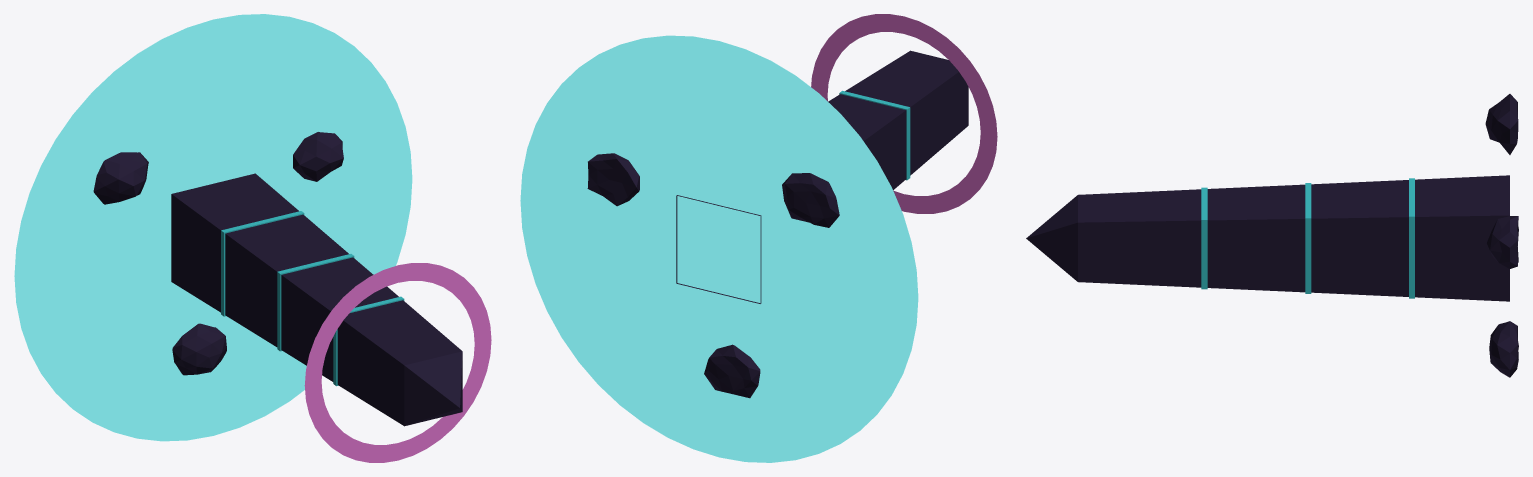
The model's file is obelisque.glb.
3 views of the same model, side by side, from view 1: azimuth 30°, elevation 25°; view 2: azimuth 150°, elevation 25°; view 3: azimuth 270°, elevation 25° (orthographic). The views are drawn at different scales.
Parts seen in each view (by area): view 1: lueur, monolithe, anneau, eclat1, eclat2, eclat0, strie, strie.001, strie.002; view 2: lueur, monolithe, anneau, eclat1, eclat2, eclat0, strie.002; view 3: monolithe, eclat1, eclat2, eclat0, strie.001, strie, strie.002.
Boxes of the visible parts, x1=… form: lueur: x1=14, y1=14, x2=412, y2=441; monolithe: x1=171, y1=173, x2=462, y2=426; anneau: x1=304, y1=263, x2=491, y2=462; eclat1: x1=93, y1=152, x2=148, y2=204; eclat2: x1=172, y1=323, x2=226, y2=375; eclat0: x1=293, y1=132, x2=343, y2=181; strie: x1=221, y1=211, x2=304, y2=316; strie.001: x1=277, y1=254, x2=354, y2=351; strie.002: x1=333, y1=296, x2=404, y2=386; lueur: x1=520, y1=35, x2=918, y2=462; monolithe: x1=676, y1=50, x2=968, y2=303; anneau: x1=811, y1=14, x2=997, y2=213; eclat1: x1=782, y1=173, x2=839, y2=227; eclat2: x1=704, y1=344, x2=760, y2=398; eclat0: x1=587, y1=153, x2=639, y2=206; strie.002: x1=839, y1=90, x2=910, y2=180; monolithe: x1=1026, y1=175, x2=1509, y2=301; eclat1: x1=1485, y1=94, x2=1518, y2=154; eclat2: x1=1489, y1=321, x2=1518, y2=377; eclat0: x1=1487, y1=216, x2=1518, y2=268; strie.001: x1=1305, y1=183, x2=1311, y2=293; strie: x1=1409, y1=178, x2=1414, y2=298; strie.002: x1=1201, y1=187, x2=1207, y2=289.
Size of the model in its own units: 5.2 by 5.2 by 5.7.
